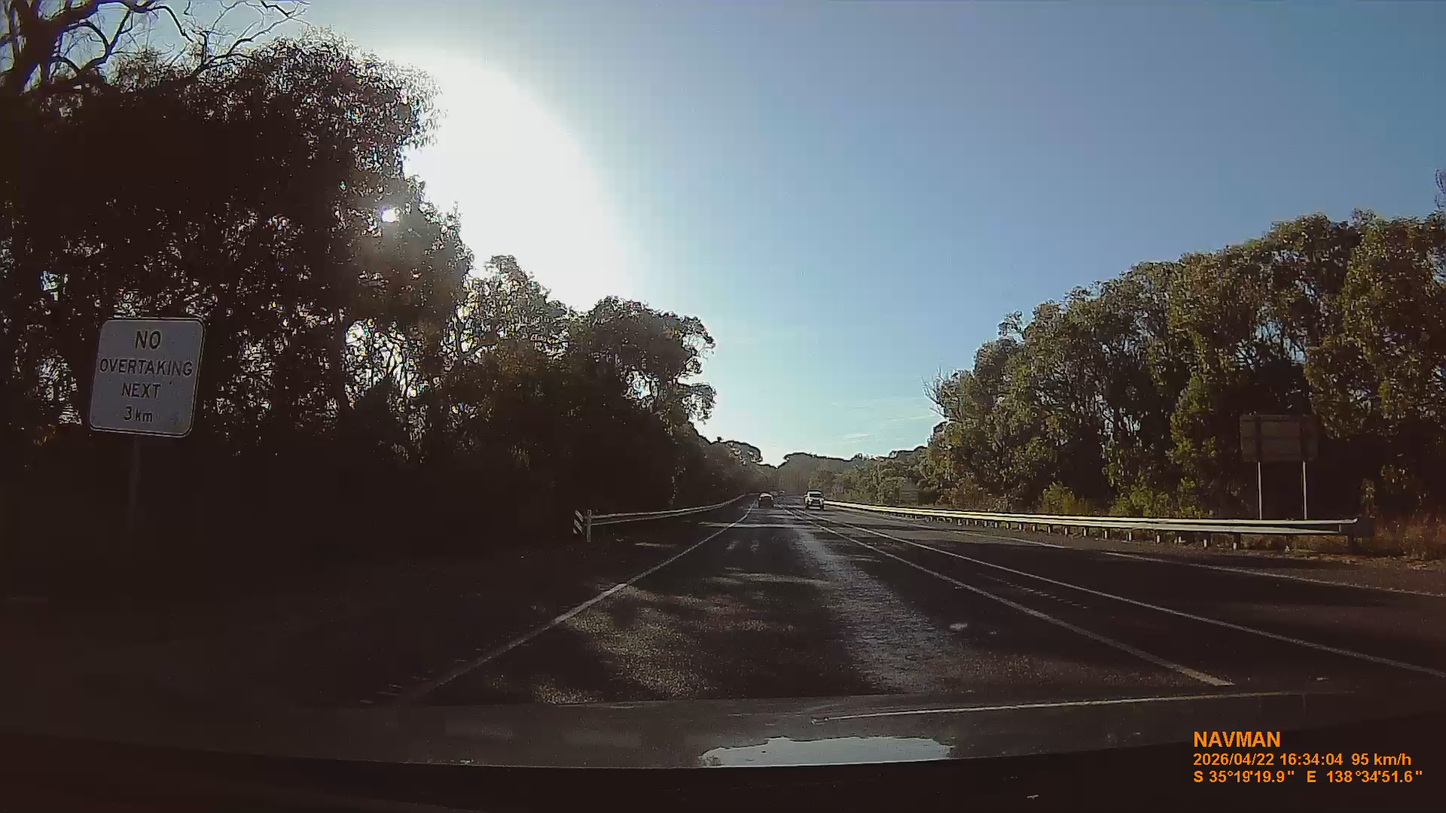road barriers: (829, 502, 1372, 547), (575, 495, 749, 540)
